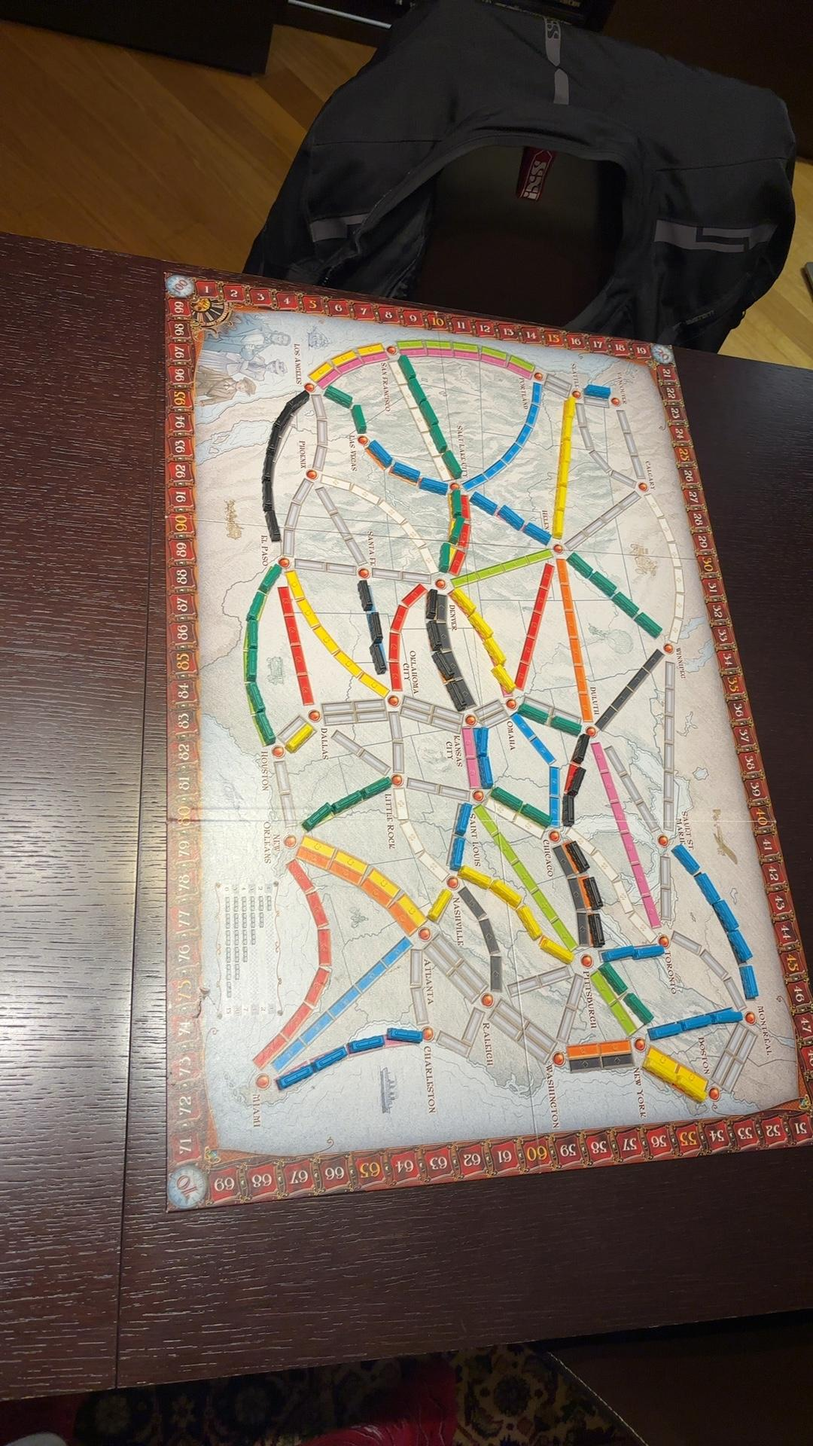black_train: (565, 840, 590, 872), (433, 650, 456, 679), (583, 878, 604, 908), (571, 734, 590, 764), (566, 767, 585, 796), (587, 914, 604, 946), (449, 682, 467, 711), (357, 581, 373, 612), (367, 612, 382, 642), (370, 643, 385, 673), (428, 621, 442, 650), (425, 589, 438, 619), (562, 796, 574, 826)
blue_train: (277, 1063, 313, 1088), (713, 899, 738, 932), (312, 1046, 346, 1070), (728, 929, 752, 963), (672, 844, 699, 873), (694, 872, 720, 902), (367, 440, 392, 467), (349, 1035, 384, 1053), (497, 505, 523, 529), (741, 964, 758, 999), (650, 1022, 683, 1040), (677, 1015, 714, 1031), (522, 522, 550, 543), (455, 803, 473, 835), (469, 493, 496, 514), (601, 945, 636, 961), (391, 462, 420, 481), (449, 836, 464, 871), (478, 756, 494, 788), (419, 477, 447, 495), (388, 1029, 422, 1042), (634, 946, 664, 959), (584, 384, 611, 398), (711, 1012, 742, 1024), (478, 728, 489, 758)
green_train: (625, 992, 653, 1023), (599, 962, 626, 994), (491, 786, 521, 812), (520, 804, 553, 827), (303, 804, 331, 831), (330, 791, 362, 814), (254, 709, 275, 744), (323, 385, 353, 409), (611, 591, 638, 617), (589, 571, 617, 596), (519, 703, 549, 725), (634, 613, 662, 636), (550, 716, 582, 735), (567, 554, 592, 578), (259, 565, 280, 593), (441, 448, 461, 477), (362, 778, 391, 798), (407, 379, 427, 407), (246, 682, 264, 712), (273, 404, 292, 431), (285, 390, 309, 411), (265, 510, 281, 541), (420, 399, 438, 426), (399, 355, 416, 381), (430, 423, 446, 450), (449, 516, 465, 543), (352, 405, 366, 434), (438, 541, 451, 572), (245, 648, 257, 681), (248, 594, 263, 620), (267, 427, 280, 456), (262, 481, 273, 514), (262, 455, 274, 483), (247, 619, 258, 649), (451, 490, 461, 516)
yellow_train: (643, 1057, 677, 1086), (675, 1075, 707, 1103), (517, 905, 542, 939), (448, 587, 477, 616), (539, 936, 571, 962), (492, 879, 521, 907), (286, 723, 314, 752), (427, 889, 452, 920), (467, 611, 493, 639), (460, 867, 491, 888), (484, 637, 508, 664), (492, 665, 515, 691)
